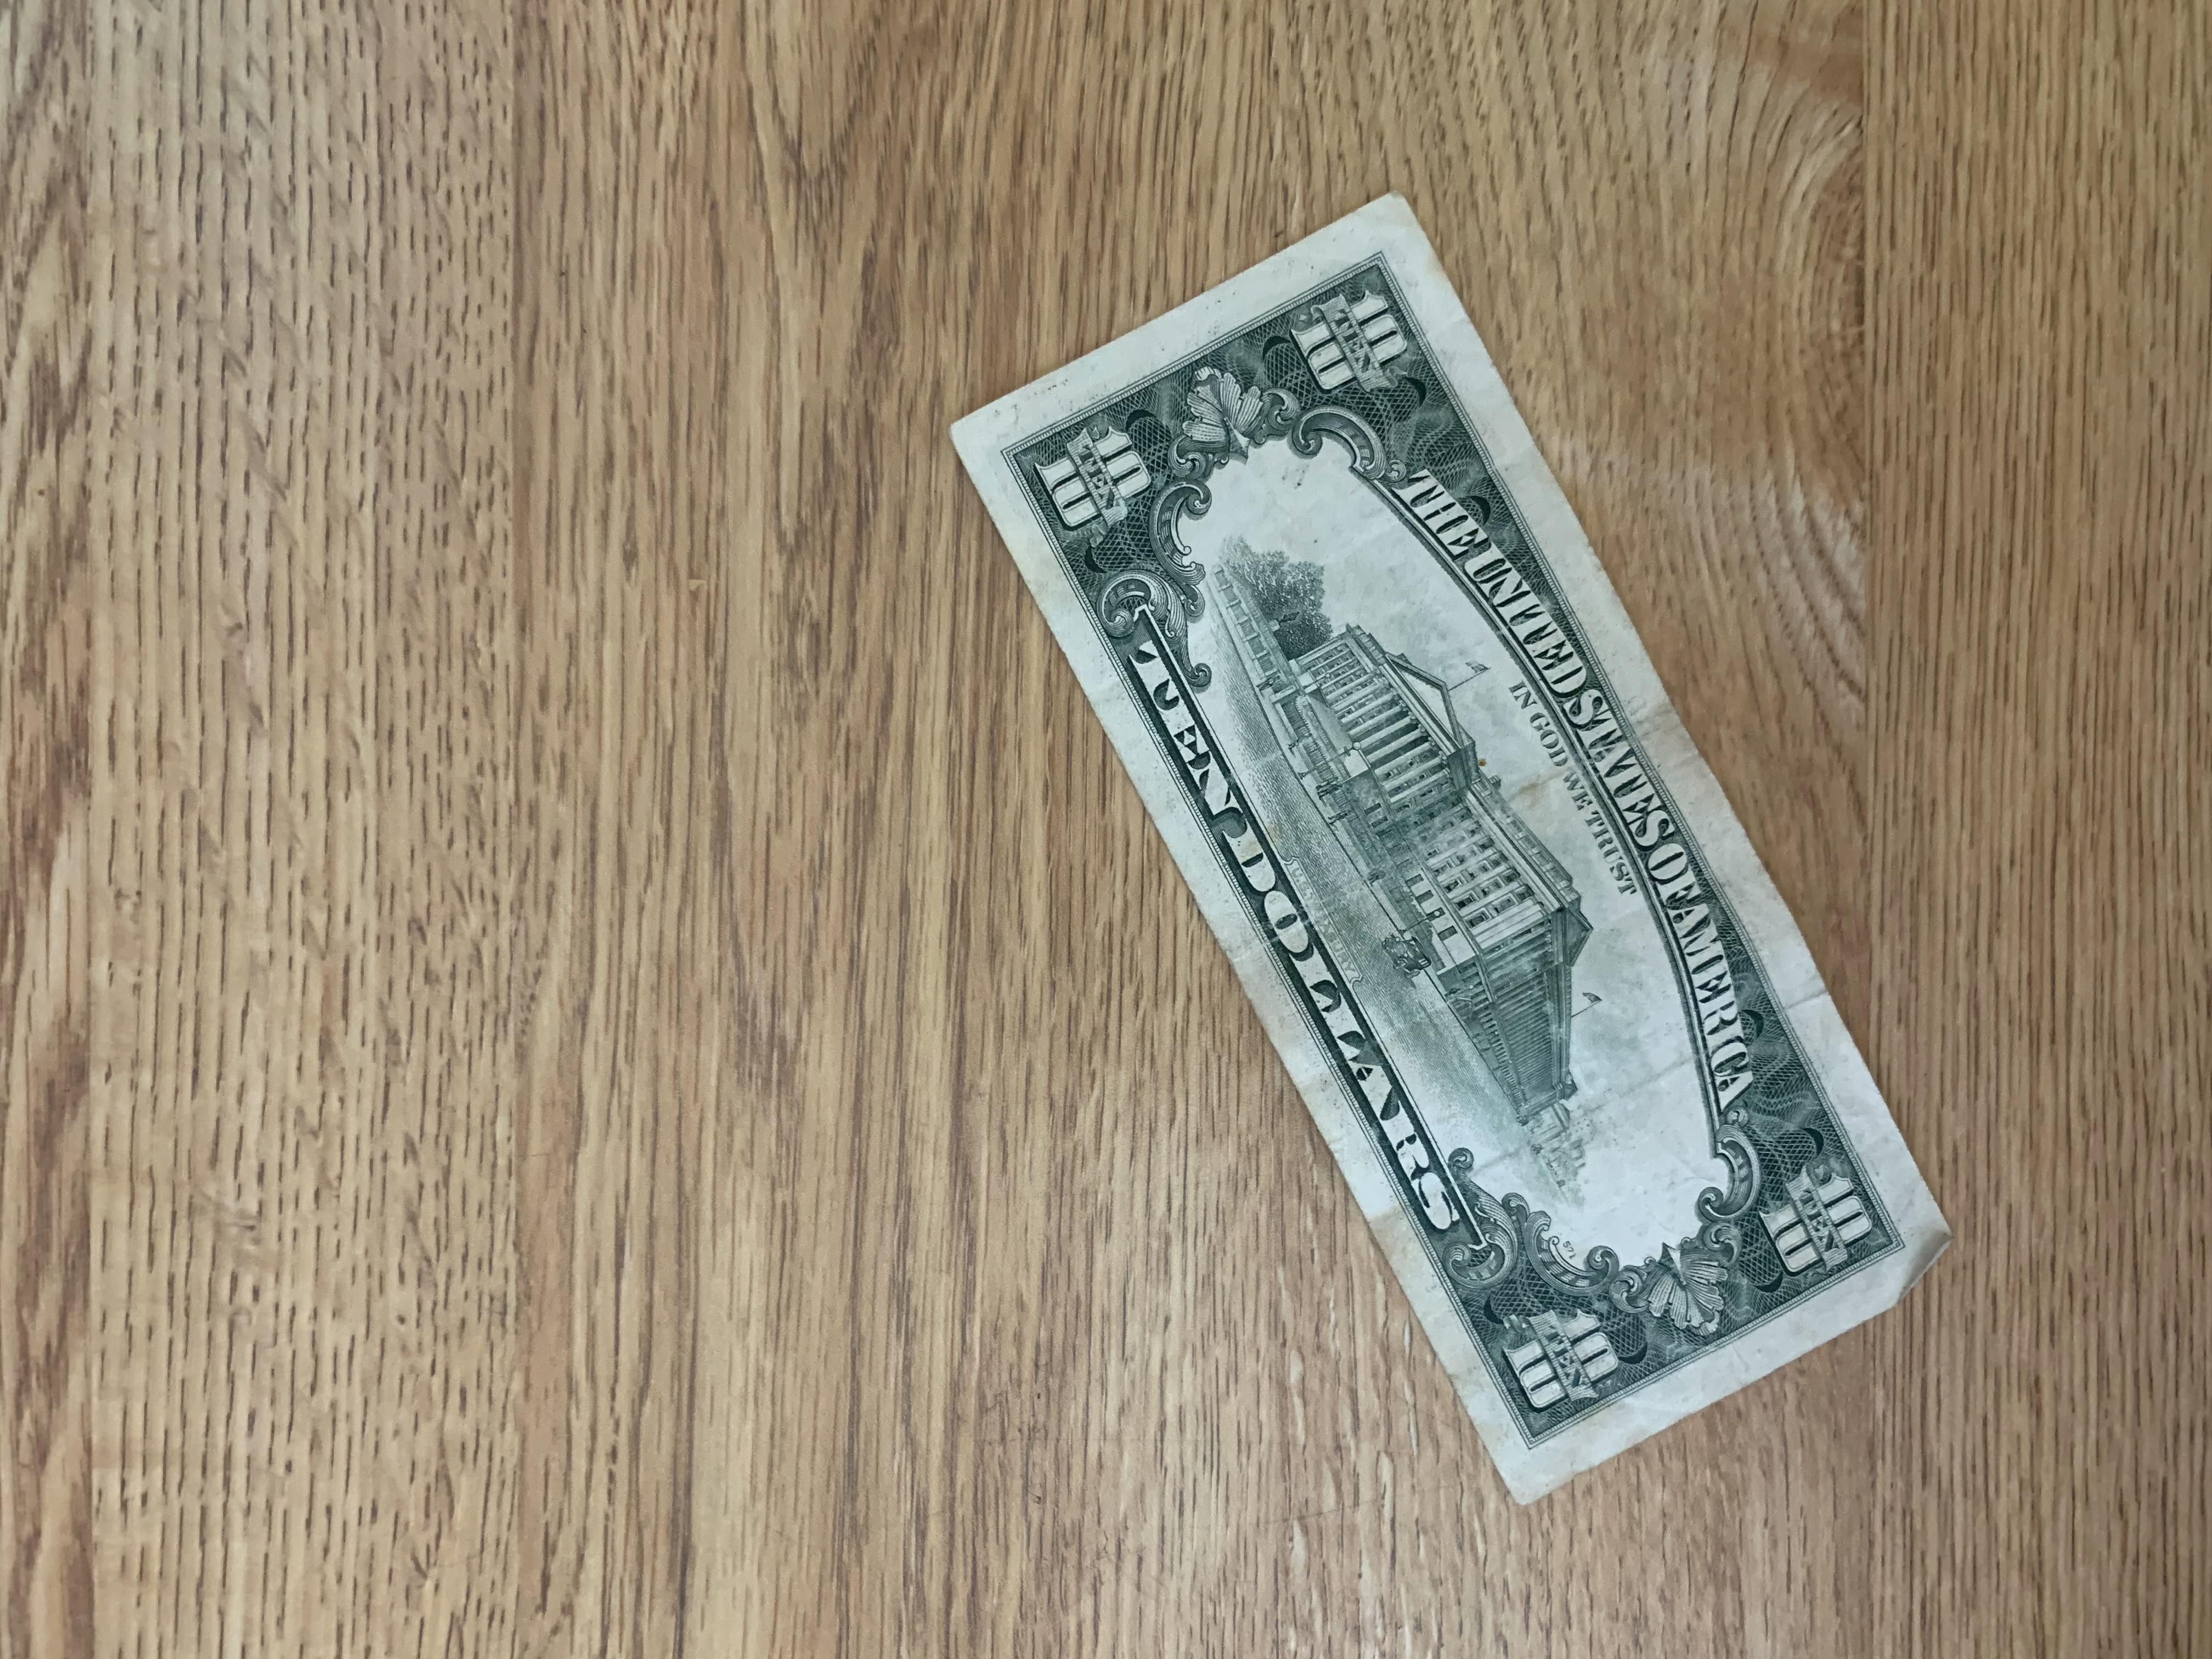TenBill: (951, 178, 1980, 1523)
